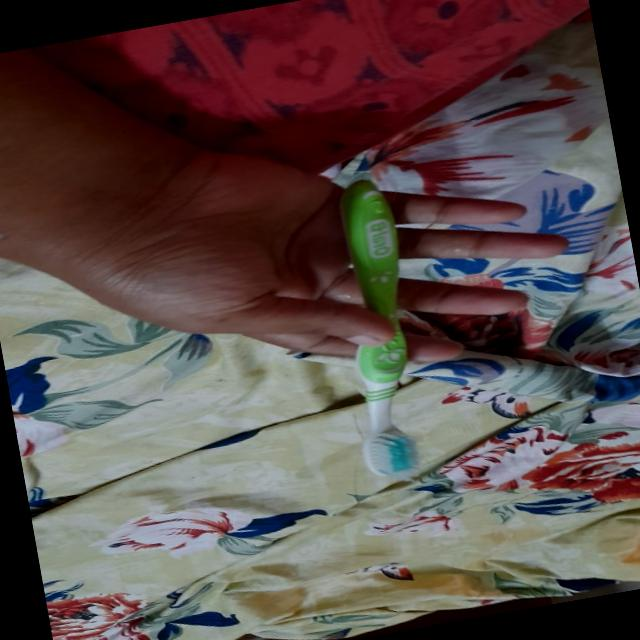Tooth_Brush - Non Recyclable: (278, 158, 462, 494)
